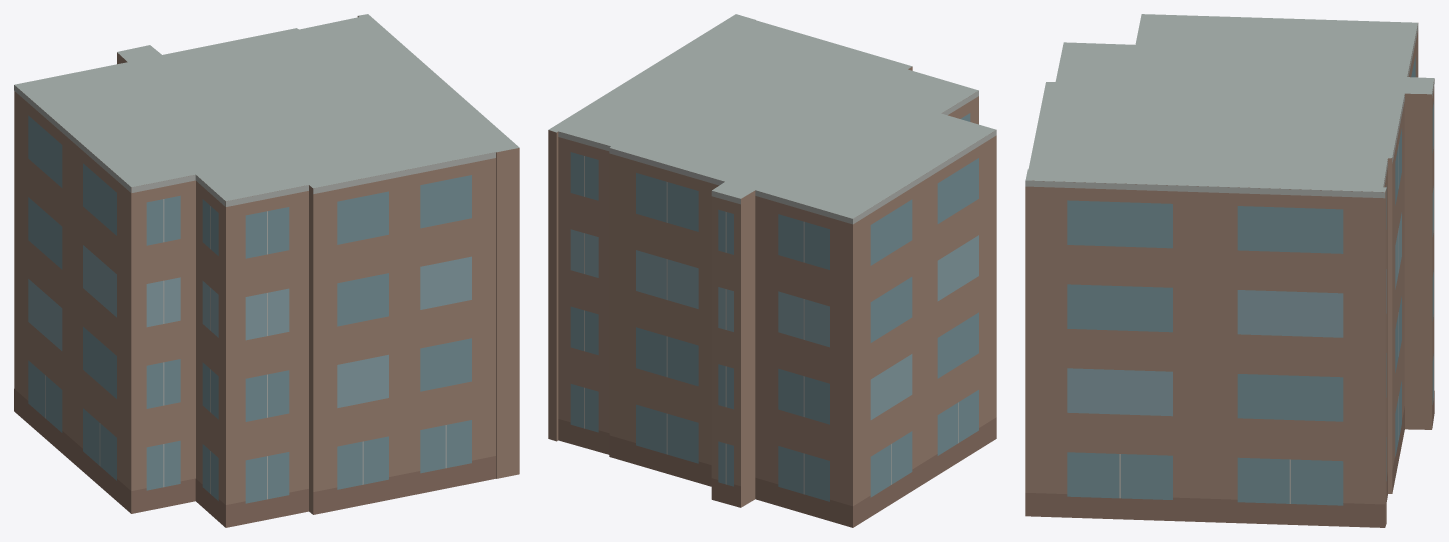
File: survey-upis-32837647.glb
3 renders of one model, left to right at view 1: azimuth 30°, elevation 25°; view 2: azimuth 150°, elevation 25°; view 3: azimuth 270°, elevation 25°, orthographic. The views are drawn at different scales.
Parts seen in each view (by area): view 1: survey-upis-32837647.tmp; view 2: survey-upis-32837647.tmp; view 3: survey-upis-32837647.tmp.
Part boxes in pixels (x1=…): survey-upis-32837647.tmp: x1=14, y1=14, x2=519, y2=527; survey-upis-32837647.tmp: x1=548, y1=14, x2=996, y2=527; survey-upis-32837647.tmp: x1=1025, y1=14, x2=1434, y2=527.
Size of the model in its own units: 15.43 by 13.55 by 14.96.
